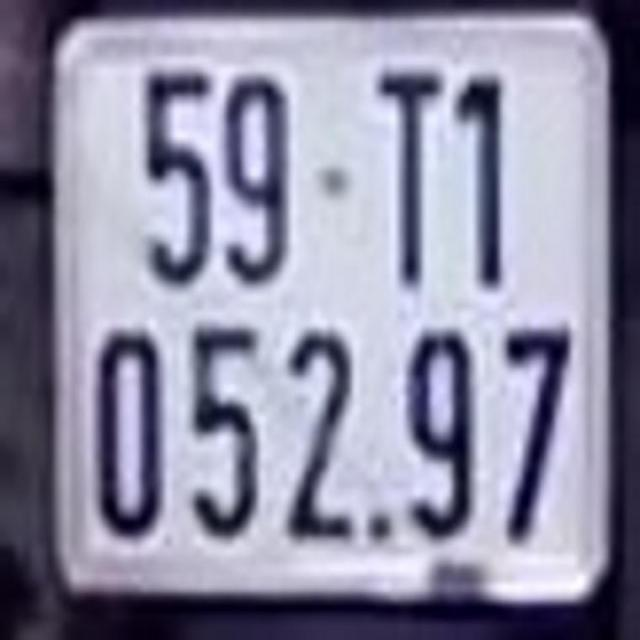0: (99, 330, 160, 540)
1: (456, 73, 511, 282)
2: (287, 326, 356, 542)
5: (140, 68, 214, 286), (190, 328, 261, 545)
7: (502, 322, 573, 549)
9: (223, 71, 292, 288), (412, 331, 472, 535)
T: (377, 63, 442, 286)
